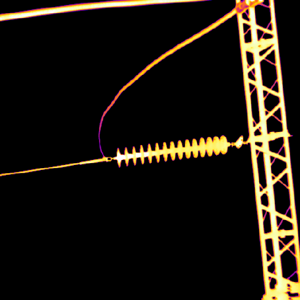insulator: (114, 134, 229, 165)
